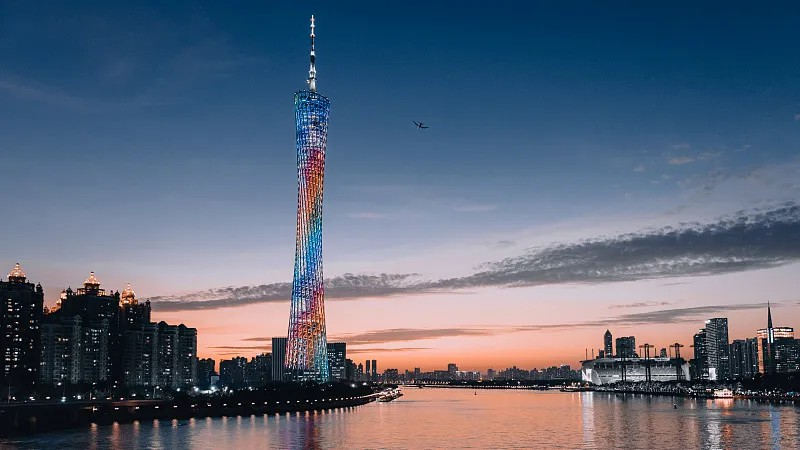Canton: (284, 14, 331, 385)
